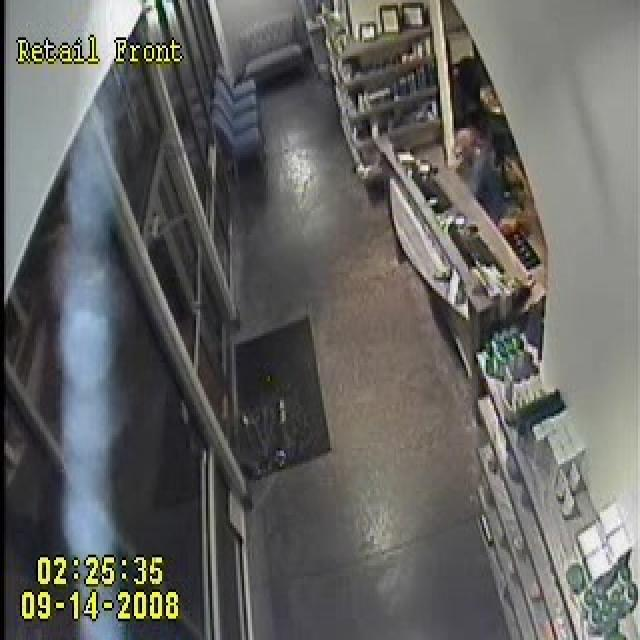thief: (441, 116, 496, 212)
